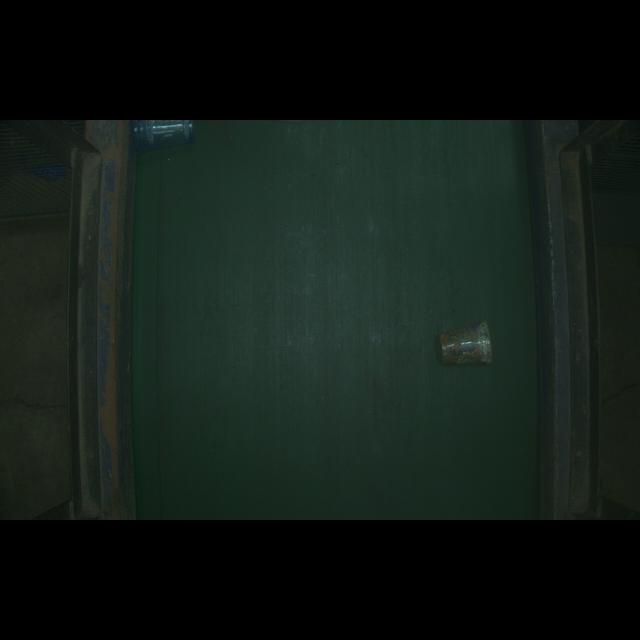mix rigid: (438, 317, 509, 373), (117, 117, 204, 152)
